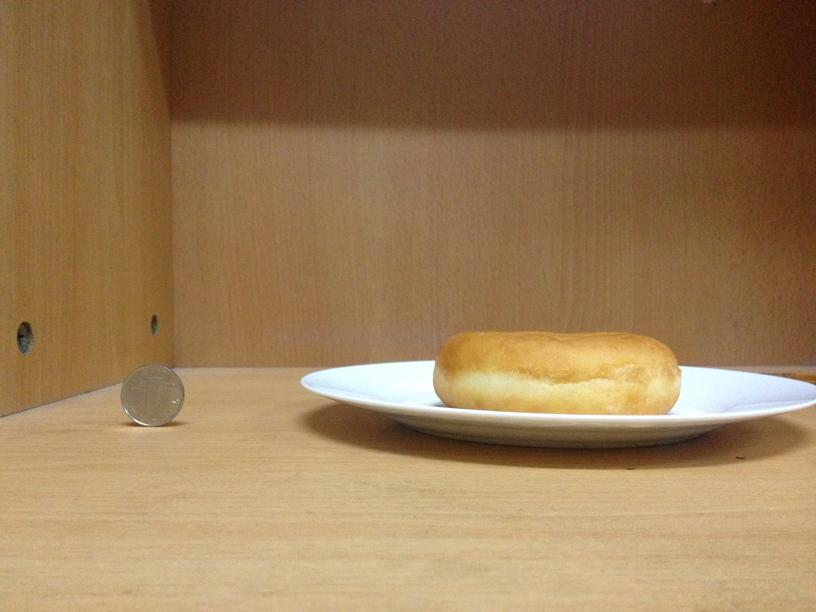coin: (117, 363, 185, 425)
doughnut: (426, 331, 681, 416)
